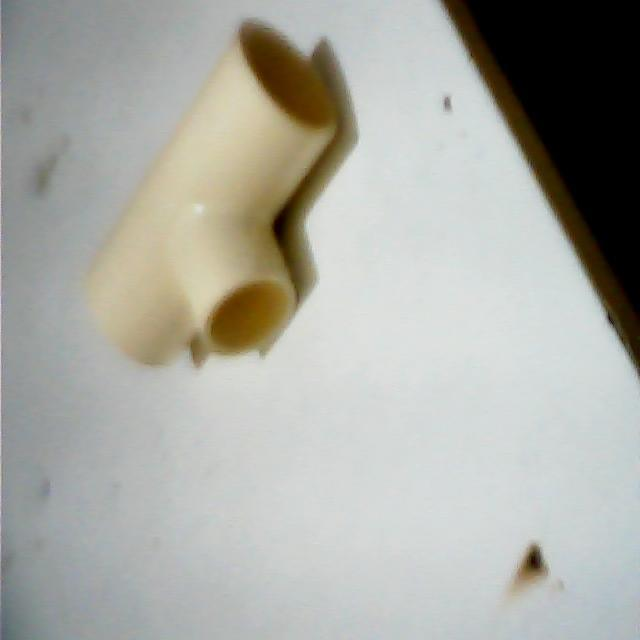T Joint: (85, 21, 344, 368)
